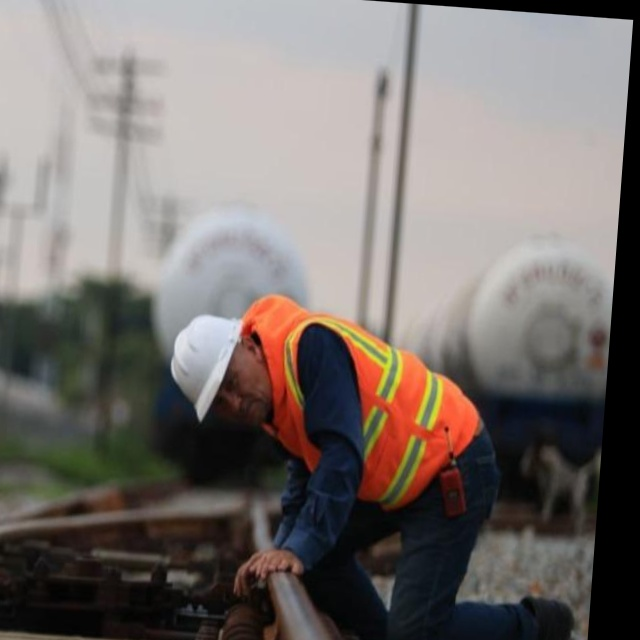Con_Casco: (165, 307, 273, 440)
Con_Chaleco: (240, 297, 477, 503)
